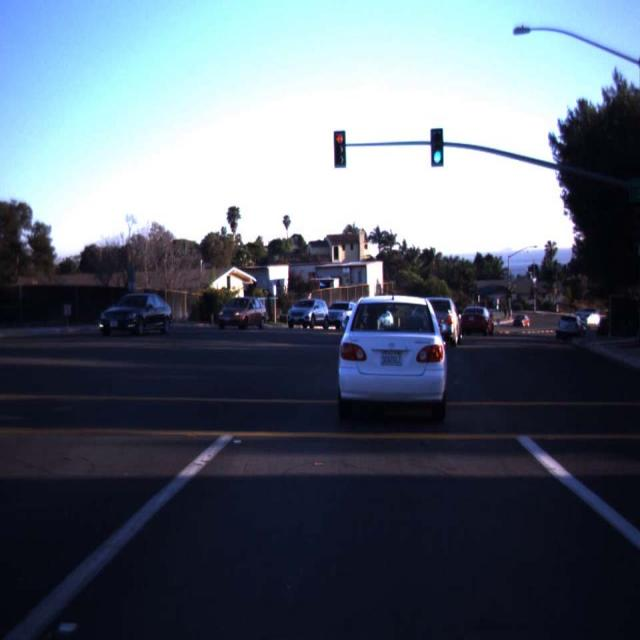kirmizi: (334, 131, 346, 168)
yesil: (430, 129, 443, 167)
